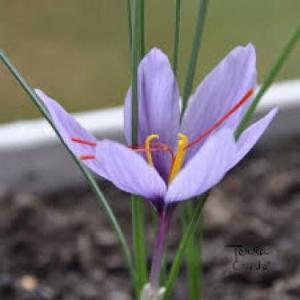Saffron: (36, 44, 278, 226)
